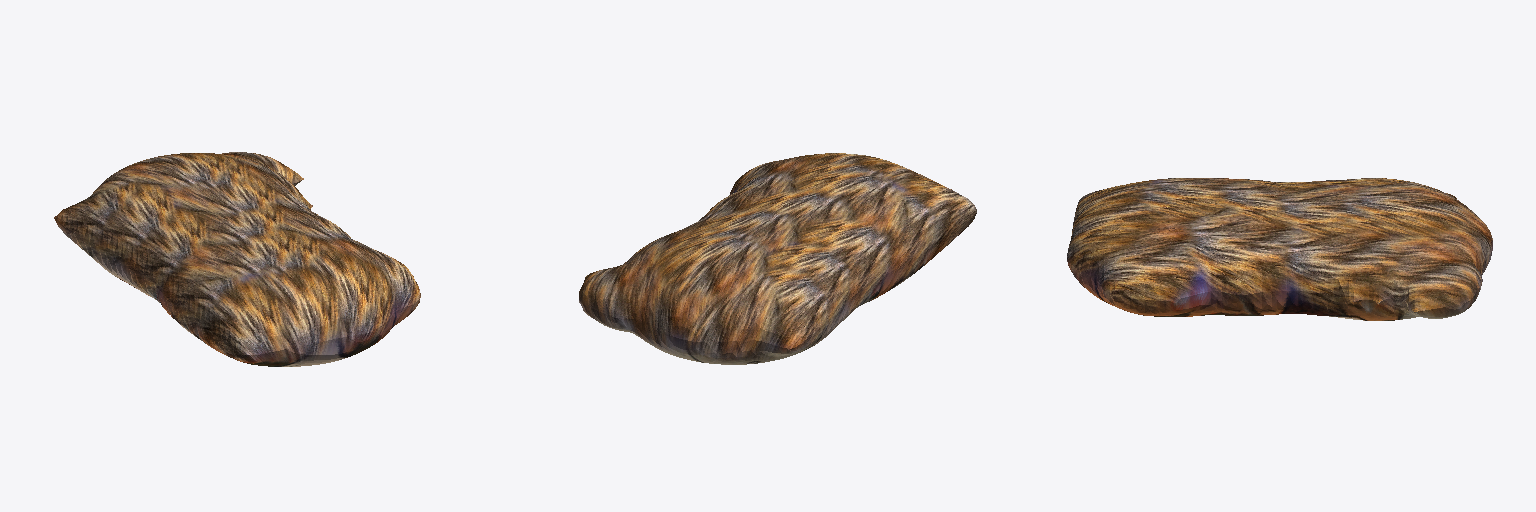
3 renders of one model, left to right at view 1: azimuth 30°, elevation 25°; view 2: azimuth 150°, elevation 25°; view 3: azimuth 270°, elevation 25°, orthographic.
Visible parts, largest first — view 1: Object.1; view 2: Object.1; view 3: Object.1.
Boxes of the visible parts, <box> form: Object.1: <box>54,152,420,366</box>; Object.1: <box>579,153,976,364</box>; Object.1: <box>1067,178,1492,320</box>.
Size of the model in its own units: 0.1712 by 0.0691 by 0.2753.
1 materials, 1 textured.